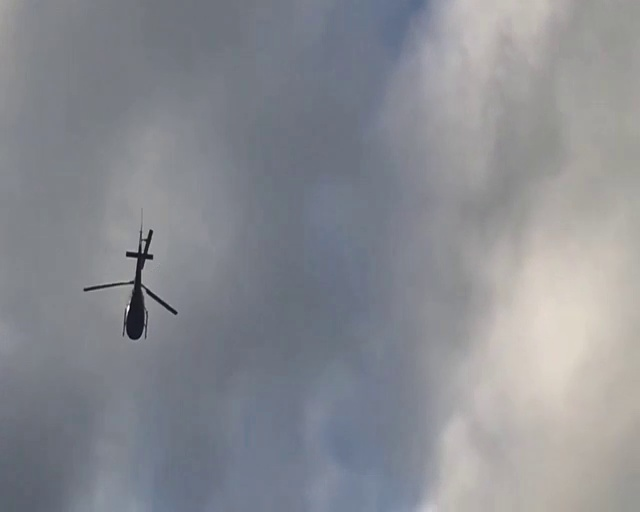HELICOPTER: (82, 218, 178, 341)
